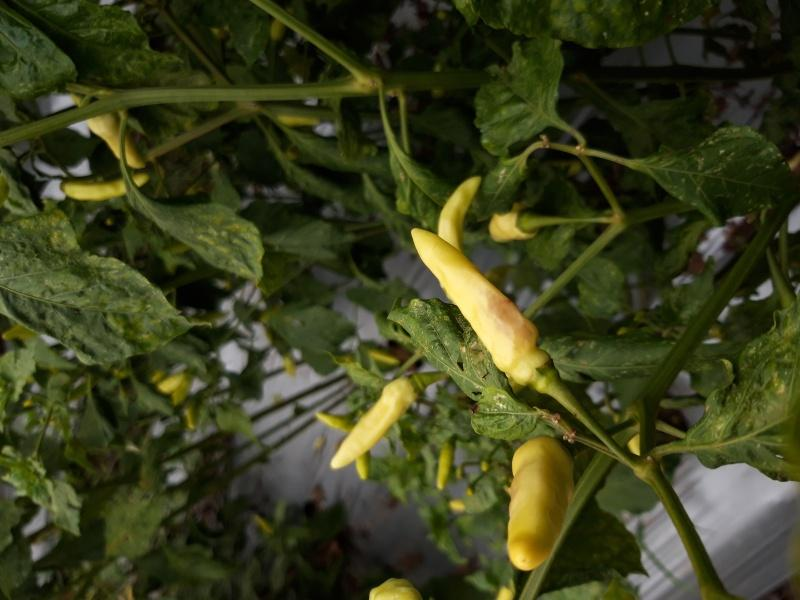antraknosa: (412, 226, 546, 385)
cabai_normal: (505, 433, 570, 571), (335, 381, 414, 467), (83, 106, 146, 169), (62, 173, 150, 201)
